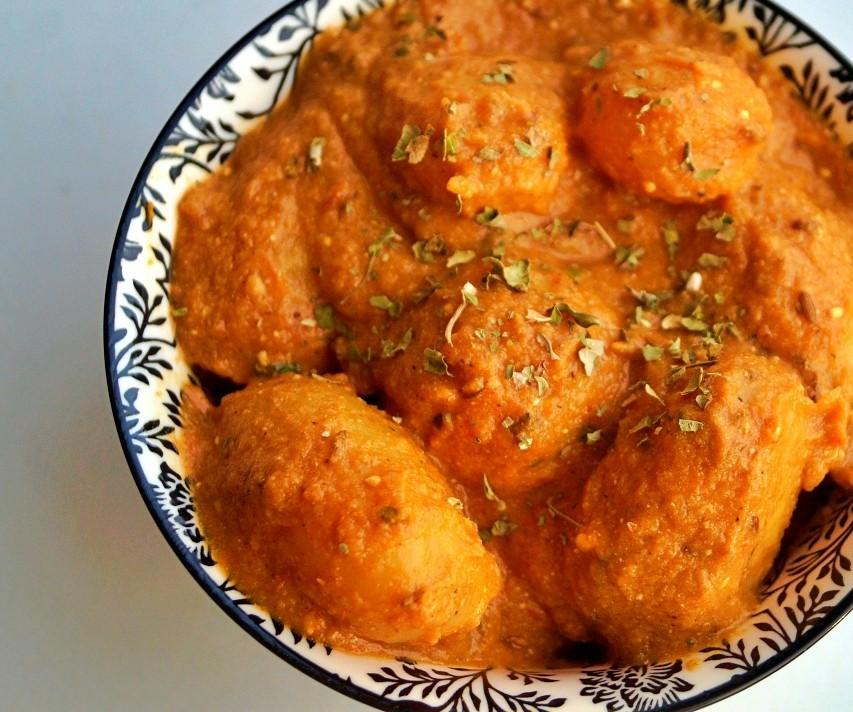DumAloo: (172, 0, 853, 666)
